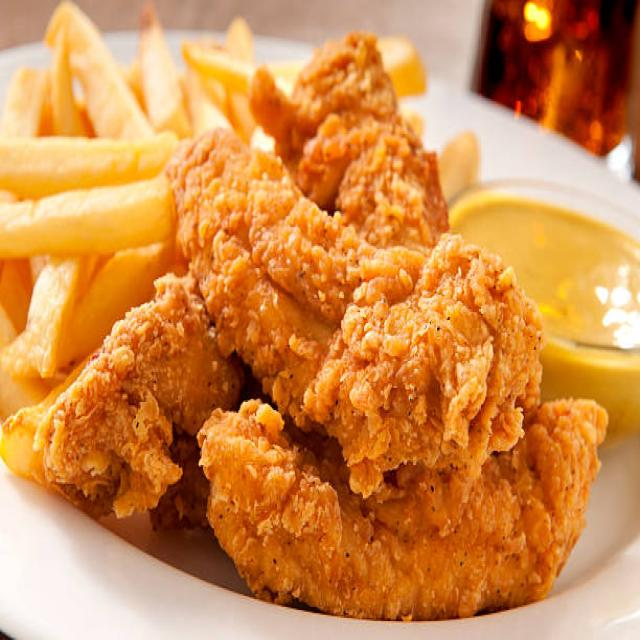Frango: (34, 27, 608, 624)
